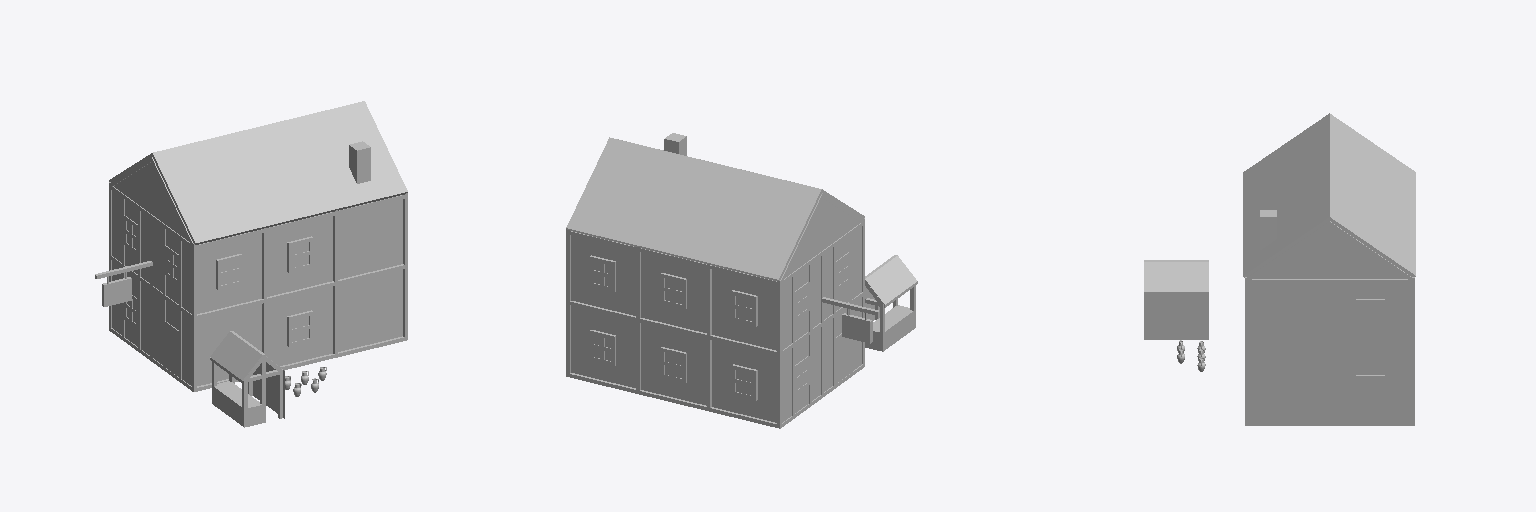
Rendered from timberframedpotter_blue_white.obj.
3 renders of one model, left to right at view 1: azimuth 30°, elevation 25°; view 2: azimuth 150°, elevation 25°; view 3: azimuth 270°, elevation 25°, orthographic.
Parts seen in each view (by area): view 1: Cube.005, Cube.007_Cube.011, Cube.011_Cube.015, Cube.018_Cube.016, Cube.056_Cube.081, Cube.001_Cube.058, Cube.013_Cube.080, Cube.006_Cube.010, Cube.055_Cube.059, Cube.026_Cube.019, Cube.073_Cube.078, Cube.012_Cube.017 (+5 smaller); view 2: Cube.005, Cube.007_Cube.011, Cube.022_Cube.025, Cube.023_Cube.026, Cube.021_Cube.024, Cube.015_Cube.020, Cube.019_Cube.022, Cube.017_Cube.021, Cube.014_Cube.018, Cube.008, Cube.020_Cube.023, Cube.073_Cube.078 (+6 smaller); view 3: Cube.005, Cube.007_Cube.011, Cube.147_Cube.153, Cube.003, Cube.033, Cube.027, Cube.047_Cube.049, Cube.031, Cube.016_Cube.013, Cube.006_Cube.010, Cube.032, Cube.012_Cube.017 (+4 smaller).
Boxes of the visible parts, x1,y1,x2,y2 form: Cube.005: [112, 162, 402, 385]; Cube.007_Cube.011: [109, 101, 407, 244]; Cube.011_Cube.015: [195, 264, 404, 319]; Cube.018_Cube.016: [195, 195, 406, 249]; Cube.056_Cube.081: [216, 254, 242, 289]; Cube.001_Cube.058: [287, 310, 312, 346]; Cube.013_Cube.080: [287, 236, 312, 272]; Cube.006_Cube.010: [349, 141, 370, 183]; Cube.055_Cube.059: [195, 336, 406, 391]; Cube.026_Cube.019: [192, 243, 196, 391]; Cube.073_Cube.078: [102, 277, 131, 306]; Cube.012_Cube.017: [403, 193, 407, 339]; Cube.005: [571, 199, 861, 422]; Cube.007_Cube.011: [566, 137, 864, 280]; Cube.022_Cube.025: [567, 301, 778, 355]; Cube.023_Cube.026: [567, 373, 776, 427]; Cube.021_Cube.024: [570, 231, 776, 284]; Cube.015_Cube.020: [732, 290, 757, 326]; Cube.019_Cube.022: [661, 347, 686, 383]; Cube.017_Cube.021: [590, 330, 615, 365]; Cube.014_Cube.018: [661, 273, 686, 308]; Cube.008: [590, 255, 615, 291]; Cube.020_Cube.023: [732, 364, 757, 400]; Cube.073_Cube.078: [842, 313, 872, 343]; Cube.005: [1249, 226, 1409, 421]; Cube.007_Cube.011: [1243, 113, 1415, 277]; Cube.147_Cube.153: [1144, 292, 1208, 339]; Cube.003: [1356, 380, 1384, 421]; Cube.033: [1356, 299, 1384, 329]; Cube.027: [1410, 277, 1414, 425]; Cube.047_Cube.049: [1270, 279, 1274, 423]; Cube.031: [1248, 422, 1410, 425]; Cube.016_Cube.013: [1248, 350, 1410, 353]; Cube.006_Cube.010: [1260, 210, 1276, 249]; Cube.032: [1248, 279, 1410, 282]; Cube.012_Cube.017: [1245, 277, 1248, 425].
Bounding box in the file's own units: 15.3 × 11.25 × 13.34.